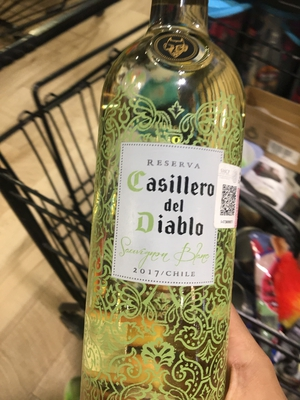casillero del diablo sauvignon blanc: (74, 11, 258, 400)
